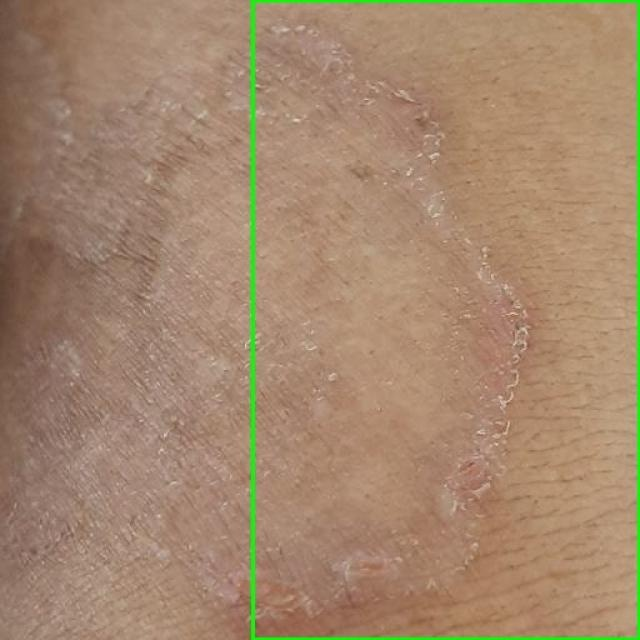Tinea Corporis: (252, 0, 639, 639)
